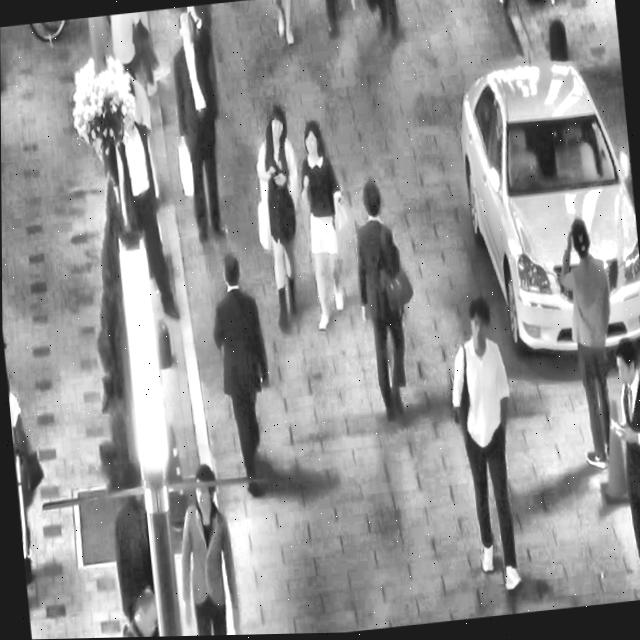light_vehicle: (445, 36, 640, 376)
